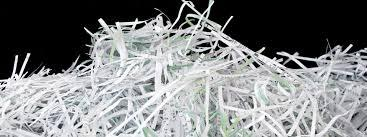Paper shavings: (1, 4, 367, 137)
